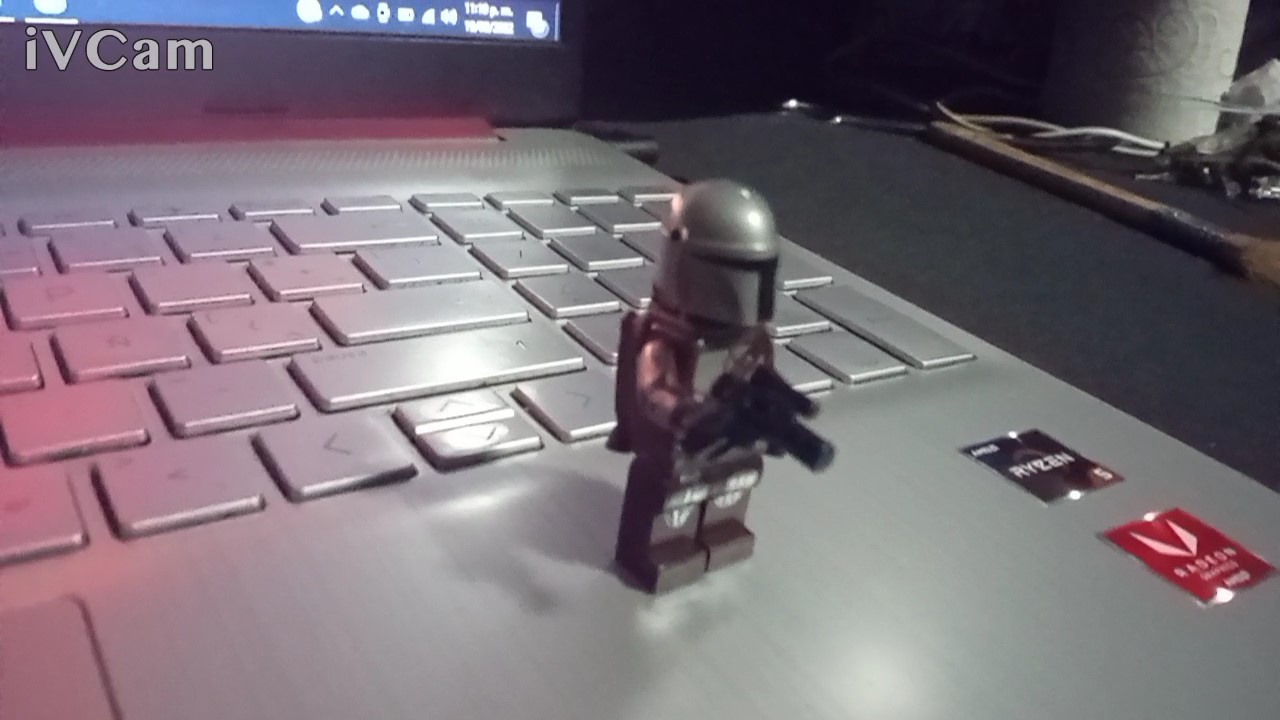mandalorian: (574, 148, 846, 602)
